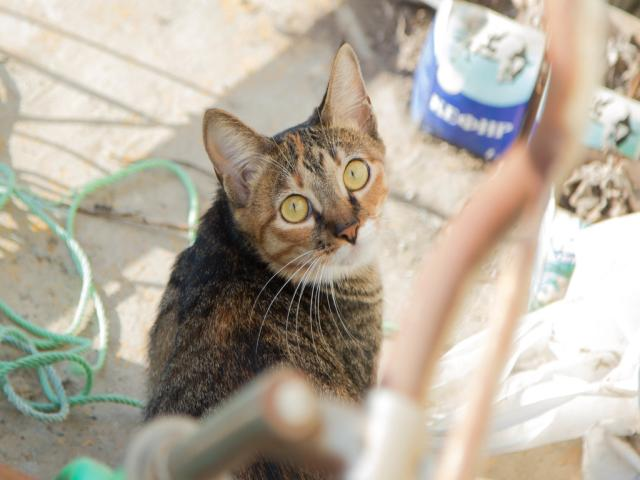Cat: (150, 39, 387, 480)
